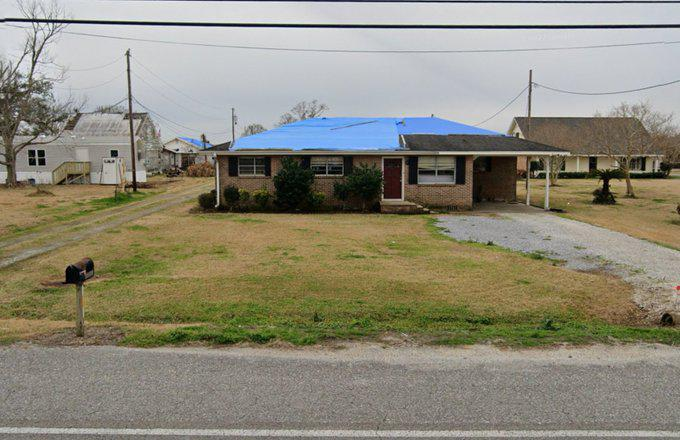minor: (204, 107, 553, 210)
